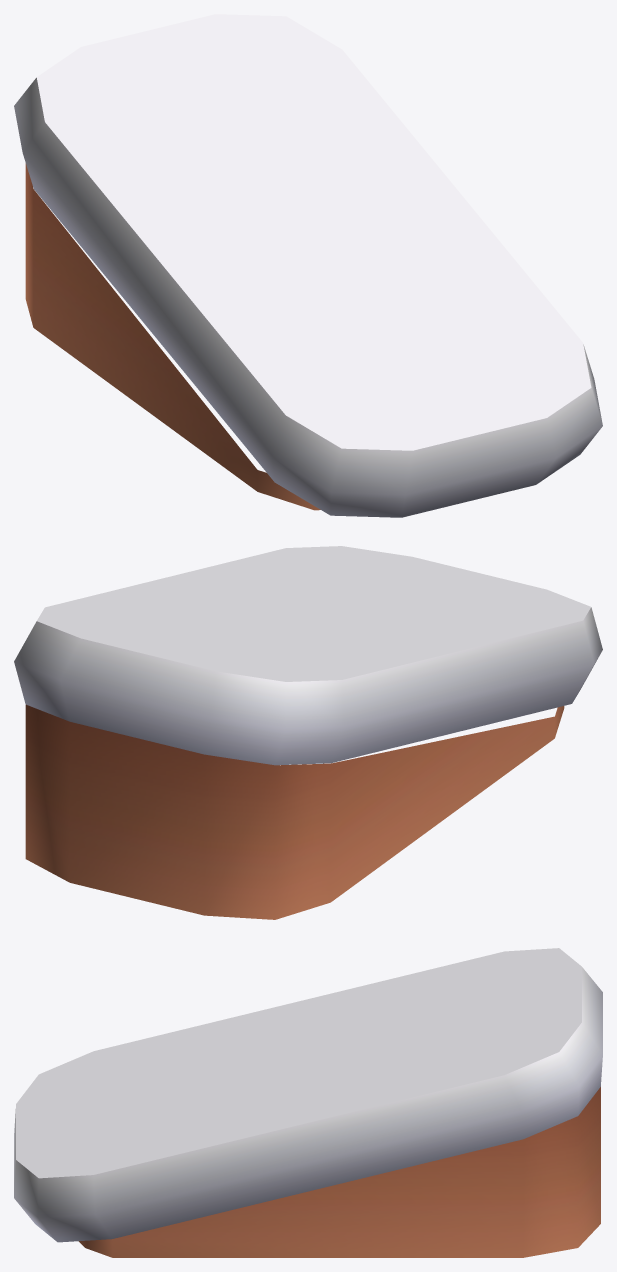
Rendered from kenney-platformer-block-snow-large-slope-narrow.glb.
3 renders of one model, top to bottom at view 1: azimuth 30°, elevation 25°; view 2: azimuth 150°, elevation 25°; view 3: azimuth 270°, elevation 25°, orthographic. The views are drawn at different scales.
Parts seen in each view (by area): view 1: block-snow-large-slope-narrow; view 2: block-snow-large-slope-narrow; view 3: block-snow-large-slope-narrow.
Part boxes in pixels (x1,y1,x2,y2): block-snow-large-slope-narrow: [14, 14, 602, 517]; block-snow-large-slope-narrow: [14, 546, 602, 919]; block-snow-large-slope-narrow: [14, 948, 602, 1257].
Size of the model in its own units: 1.08 by 0.7592 by 2.01.
Materials: 1 (1 with a texture image).
